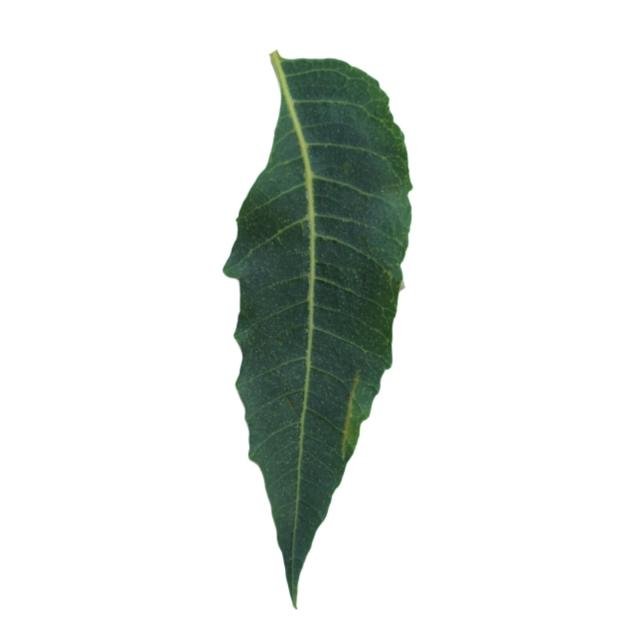Medicinal-Neem: (220, 41, 413, 612)
